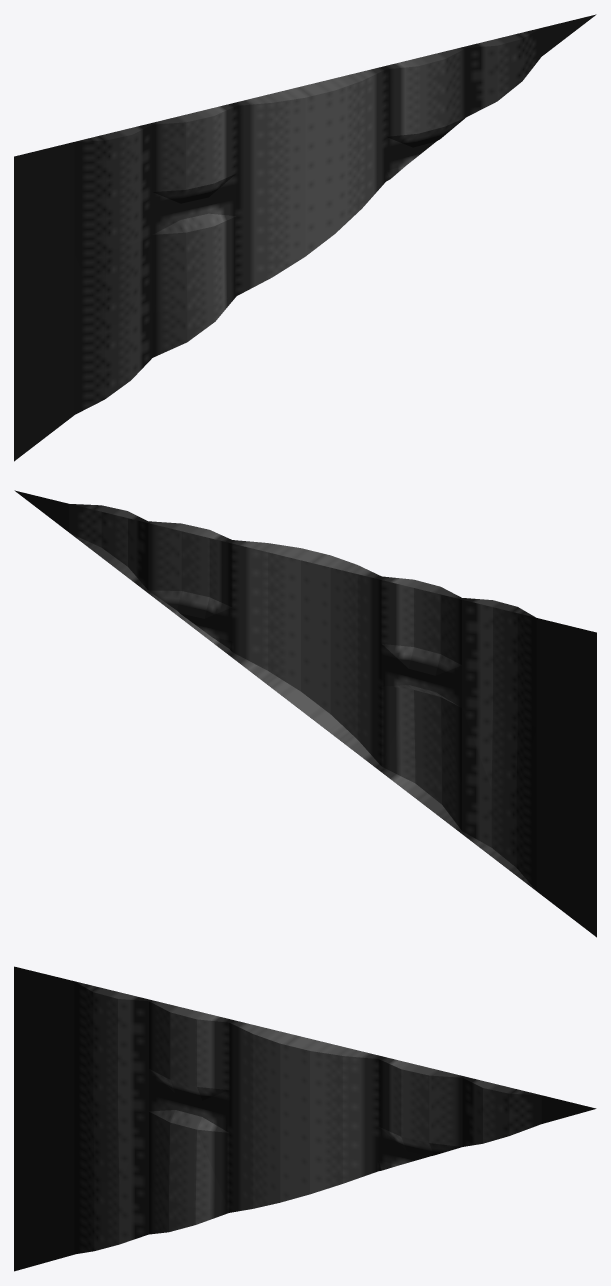
The model's file is stor1_6_slice128_up_lh.fbx.
3 views of the same model, one above another, from view 1: azimuth 30°, elevation 25°; view 2: azimuth 150°, elevation 25°; view 3: azimuth 330°, elevation 25° (orthographic).
Parts seen in each view (by area): view 1: stor1_6_mesh; view 2: stor1_6_mesh; view 3: stor1_6_mesh.
Boxes of the visible parts, x1,y1,x2,y2 form: stor1_6_mesh: [14, 14, 596, 461]; stor1_6_mesh: [14, 490, 596, 937]; stor1_6_mesh: [14, 966, 596, 1271].
Bounding box in the file's own units: 256 × 128 × 9.54.
